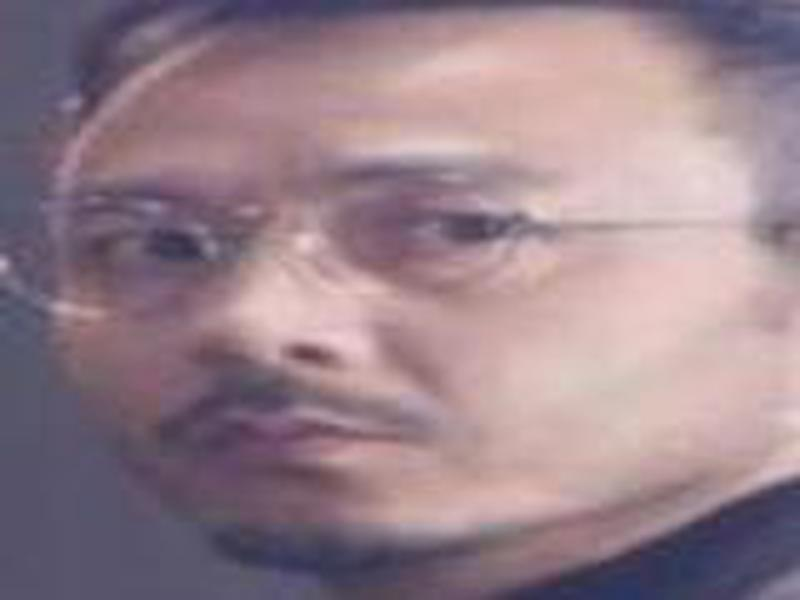without_mask: (10, 33, 770, 576)
